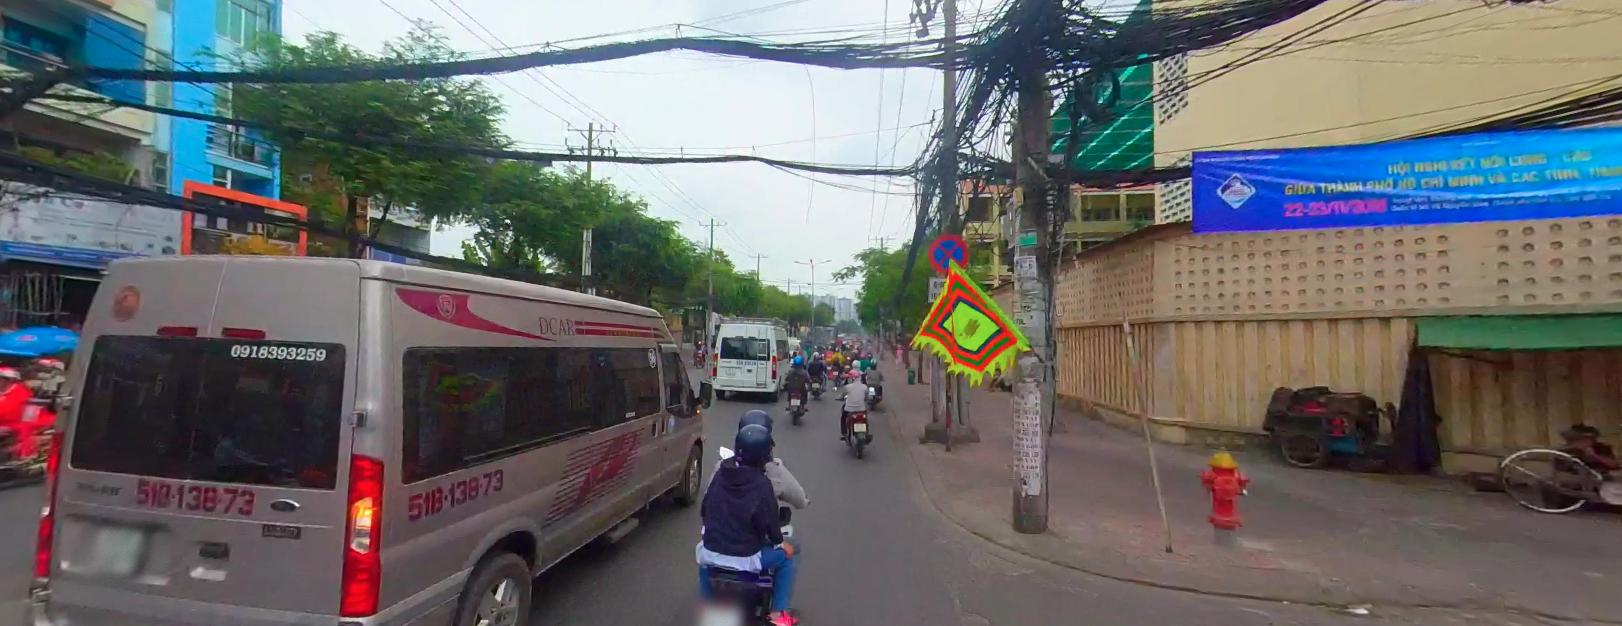Cam dung va do: (928, 231, 968, 271)
